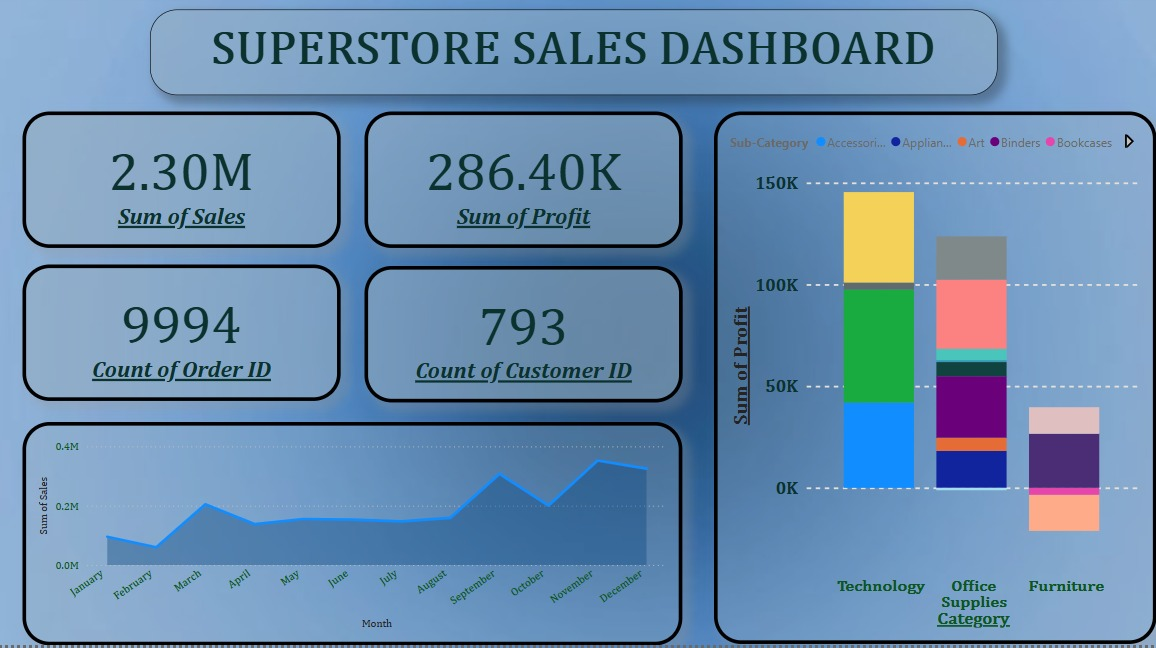

This screenshot's page, from the dashboard's own definition file:
{"tool":"powerbi","page":{"name":"Overview","canvas":[1280,720],"ordinal":0},"visuals":[{"type":"card","fields":{"Values":["Sum(Orders.Sales)"]},"box":[28.2,130.9,351.2,150.7],"z":0},{"type":"card","fields":{"Values":["CountNonNull(Orders.Order ID)"]},"box":[28.2,299.8,351.2,150.7],"z":1000},{"type":"card","fields":{"Values":["Sum(Orders.Profit)"]},"box":[405.8,130.9,351.2,150.7],"z":2000},{"type":"card","fields":{"Values":["Count(Orders.Customer ID)"]},"box":[405.8,301.5,351.2,150.7],"z":3000},{"type":"lineChart","fields":{"Y":["Sum(Orders.Sales)"],"Category":["Orders.Order Date.Variation.Date Hierarchy.Month"]},"box":[28.2,473.8,728.9,246.8],"z":4000},{"type":"columnChart","fields":{"Category":["Orders.Category"],"Y":["Sum(Orders.Profit)"],"Series":["Orders.Sub-Category"]},"box":[791.8,130.9,488.7,588.1],"z":5000},{"type":"textbox","box":[169,18.2,935.9,94.4],"z":6000}]}

Visuals, with their boxes in screenshot pixels (x1, y1, x2, y2), scaled from the page's 1280x720 canvas onto the 1156x648 screenshot:
card - Sum(Orders.Sales): [x1=25, y1=118, x2=343, y2=253]
card - CountNonNull(Orders.Order ID): [x1=25, y1=270, x2=343, y2=405]
card - Sum(Orders.Profit): [x1=366, y1=118, x2=684, y2=253]
card - Count(Orders.Customer ID): [x1=366, y1=271, x2=684, y2=407]
lineChart - Sum(Orders.Sales) x Orders.Order Date.Variation.Date Hierarchy.Month: [x1=25, y1=426, x2=684, y2=647]
columnChart - Orders.Category x Sum(Orders.Profit): [x1=715, y1=118, x2=1155, y2=647]
textbox: [x1=153, y1=16, x2=998, y2=101]
